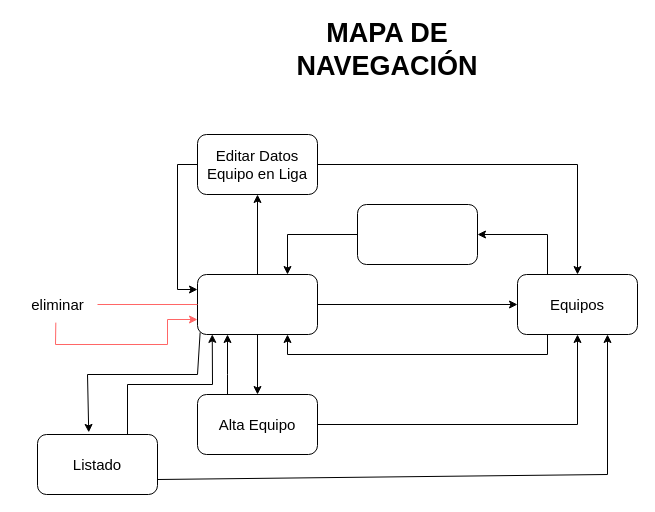
Image size: 655x512. Some labels were removed from this diagram. Each missing label, with the centre of its shape:
Editar Ficha Equipo: point (417, 234)
Liga (Inicio): point (257, 304)
